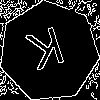K: (24, 26, 70, 80)
